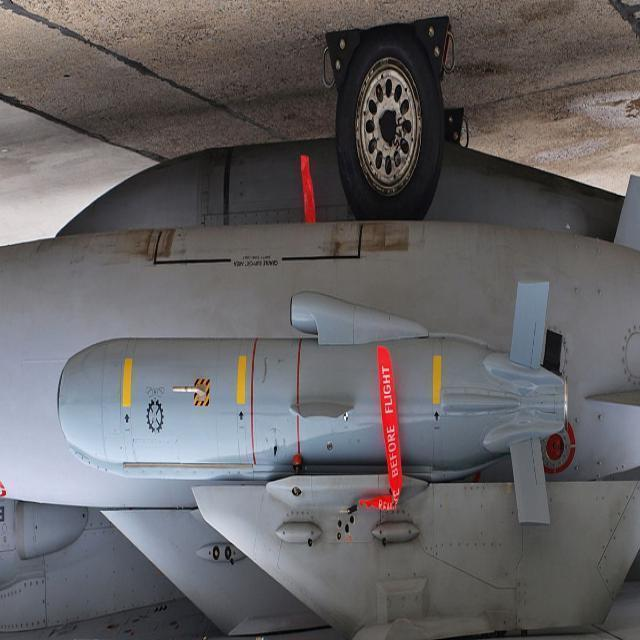missile: (54, 338, 570, 512)
